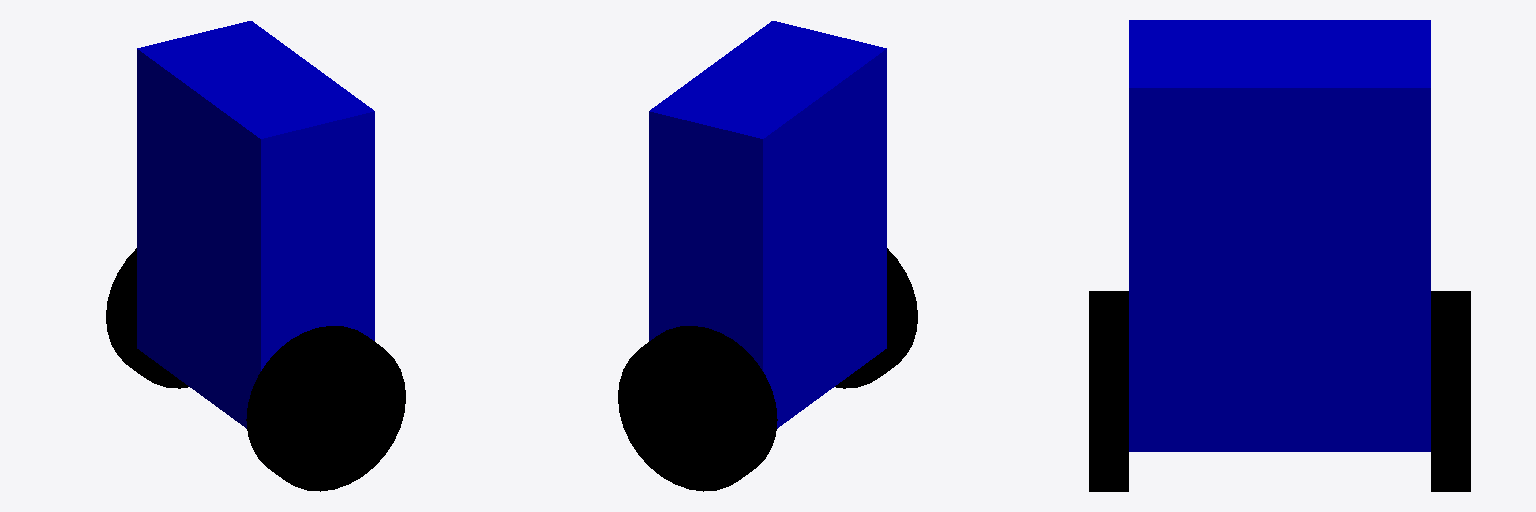
URDF robot description (self_balancing_robot):
<?xml version="1.0"?>
<robot name="self_balancing_robot">
    <!-- Materials -->
    <material name="blue">
        <color rgba="0 0 0.8 1"/>
    </material>
    <material name="black">
        <color rgba="0 0 0 1"/>
    </material>
    <material name="white">
        <color rgba="1 1 1 1"/>
    </material>

    <!-- Base Properties -->
    <link name="base_link">
        <visual>
            <origin xyz="0 0 0" rpy="0 0 0"/>
            <geometry>
                <box size="0.08 0.15 0.20"/>
            </geometry>
            <material name="blue"/>
        </visual>
        <collision>
            <origin xyz="0 0 0" rpy="0 0 0"/>
            <geometry>
                <box size="0.08 0.15 0.20"/>
            </geometry>
        </collision>
        <inertial>
            <origin xyz="0 0 0" rpy="0 0 0"/>
            <mass value="1.0"/>
            <inertia ixx="0.0016" ixy="0" ixz="0" iyy="0.0023" iyz="0" izz="0.0036"/>
        </inertial>
        <contact>
            <lateral_friction value="1.0"/>
            <rolling_friction value="0.1"/>
            <spinning_friction value="0.5"/>
        </contact>
    </link>

    <!-- Left Wheel -->
    <link name="left_wheel">
        <visual>
            <origin xyz="0 0 0" rpy="1.5708 0 0"/>
            <geometry>
                <cylinder length="0.02" radius="0.05"/>
            </geometry>
            <material name="black"/>
        </visual>
        <collision>
            <origin xyz="0 0 0" rpy="1.5708 0 0"/>
            <geometry>
                <cylinder length="0.02" radius="0.05"/>
            </geometry>
        </collision>
        <inertial>
            <origin xyz="0 0 0" rpy="1.5708 0 0"/>
            <mass value="0.2"/>
            <inertia ixx="0.00012" ixy="0" ixz="0" iyy="0.00012" iyz="0" izz="0.00025"/>
        </inertial>
        <contact>
            <lateral_friction value="2.0"/>
            <rolling_friction value="0.1"/>
            <spinning_friction value="0.1"/>
        </contact>
    </link>

    <joint name="left_wheel_joint" type="continuous">
        <parent link="base_link"/>
        <child link="left_wheel"/>
        <origin xyz="0 0.085 -0.085" rpy="0 0 0"/>
        <axis xyz="0 1 0"/>
        <dynamics damping="0.1" friction="0.1"/>
        <limit effort="5.0" velocity="10.0"/>
    </joint>

    <!-- Right Wheel -->
    <link name="right_wheel">
        <visual>
            <origin xyz="0 0 0" rpy="1.5708 0 0"/>
            <geometry>
                <cylinder length="0.02" radius="0.05"/>
            </geometry>
            <material name="black"/>
        </visual>
        <collision>
            <origin xyz="0 0 0" rpy="1.5708 0 0"/>
            <geometry>
                <cylinder length="0.02" radius="0.05"/>
            </geometry>
        </collision>
        <inertial>
            <origin xyz="0 0 0" rpy="1.5708 0 0"/>
            <mass value="0.2"/>
            <inertia ixx="0.00012" ixy="0" ixz="0" iyy="0.00012" iyz="0" izz="0.00025"/>
        </inertial>
        <contact>
            <lateral_friction value="2.0"/>
            <rolling_friction value="0.1"/>
            <spinning_friction value="0.1"/>
        </contact>
    </link>

    <joint name="right_wheel_joint" type="continuous">
        <parent link="base_link"/>
        <child link="right_wheel"/>
        <origin xyz="0 -0.085 -0.085" rpy="0 0 0"/>
        <axis xyz="0 1 0"/>
        <dynamics damping="0.1" friction="0.1"/>
        <limit effort="5.0" velocity="10.0"/>
    </joint>

    <!-- IMU Sensor -->
    <link name="imu_link">
        <visual>
            <origin xyz="0 0 0" rpy="0 0 0"/>
            <geometry>
                <box size="0.02 0.02 0.01"/>
            </geometry>
            <material name="white"/>
        </visual>
        <collision>
            <origin xyz="0 0 0" rpy="0 0 0"/>
            <geometry>
                <box size="0.02 0.02 0.01"/>
            </geometry>
        </collision>
        <inertial>
            <origin xyz="0 0 0" rpy="0 0 0"/>
            <mass value="0.01"/>
            <inertia ixx="0.000001" ixy="0" ixz="0" iyy="0.000001" iyz="0" izz="0.000001"/>
        </inertial>
    </link>

    <joint name="imu_joint" type="fixed">
        <parent link="base_link"/>
        <child link="imu_link"/>
        <origin xyz="0 0 0.04" rpy="0 0 0"/>
    </joint>

    <!-- MCU Board -->
    <link name="mcu_link">
        <visual>
            <origin xyz="0 0 0" rpy="0 0 0"/>
            <geometry>
                <box size="0.07 0.05 0.01"/>
            </geometry>
            <material name="black"/>
        </visual>
        <collision>
            <origin xyz="0 0 0" rpy="0 0 0"/>
            <geometry>
                <box size="0.07 0.05 0.01"/>
            </geometry>
        </collision>
        <inertial>
            <origin xyz="0 0 0" rpy="0 0 0"/>
            <mass value="0.05"/>
            <inertia ixx="0.000004" ixy="0" ixz="0" iyy="0.000004" iyz="0" izz="0.000007"/>
        </inertial>
    </link>

    <joint name="mcu_joint" type="fixed">
        <parent link="base_link"/>
        <child link="mcu_link"/>
        <origin xyz="0 0 0.02" rpy="0 0 0"/>
    </joint>

    <!-- Battery -->
    <link name="battery_link">
        <visual>
            <origin xyz="0 0 0" rpy="0 0 0"/>
            <geometry>
                <box size="0.06 0.04 0.02"/>
            </geometry>
            <material name="black"/>
        </visual>
        <collision>
            <origin xyz="0 0 0" rpy="0 0 0"/>
            <geometry>
                <box size="0.06 0.04 0.02"/>
            </geometry>
        </collision>
        <inertial>
            <origin xyz="0 0 0" rpy="0 0 0"/>
            <mass value="0.3"/>
            <inertia ixx="0.000075" ixy="0" ixz="0" iyy="0.000075" iyz="0" izz="0.00012"/>
        </inertial>
    </link>

    <joint name="battery_joint" type="fixed">
        <parent link="base_link"/>
        <child link="battery_link"/>
        <origin xyz="0 0 -0.03" rpy="0 0 0"/>
    </joint>
</robot>

--- Facts derived from the render (not from the file) ---
Views: 3 orthographic renders of the robot side by side, from view 1: azimuth 30°, elevation 25°; view 2: azimuth 150°, elevation 25°; view 3: azimuth 270°, elevation 25°.
Model self_balancing_robot with 6 links and 5 joints (2 continuous, 3 fixed), rooted at base_link, posed every joint at zero.
Visible links, largest first — view 1: base_link, right_wheel, left_wheel; view 2: base_link, left_wheel, right_wheel; view 3: base_link, left_wheel, right_wheel.
Boxes of the visible links, x1=… form: base_link: x1=137, y1=21, x2=374, y2=428; right_wheel: x1=246, y1=326, x2=405, y2=491; left_wheel: x1=106, y1=248, x2=188, y2=388; base_link: x1=649, y1=21, x2=886, y2=428; left_wheel: x1=618, y1=326, x2=777, y2=491; right_wheel: x1=835, y1=248, x2=917, y2=388; base_link: x1=1129, y1=20, x2=1430, y2=451; left_wheel: x1=1431, y1=291, x2=1470, y2=491; right_wheel: x1=1089, y1=291, x2=1128, y2=491.
Size in the robot's own frame: 0.1 by 0.19 by 0.235 metres.
Geometry: primitives only (box / cylinder / sphere), no mesh files.